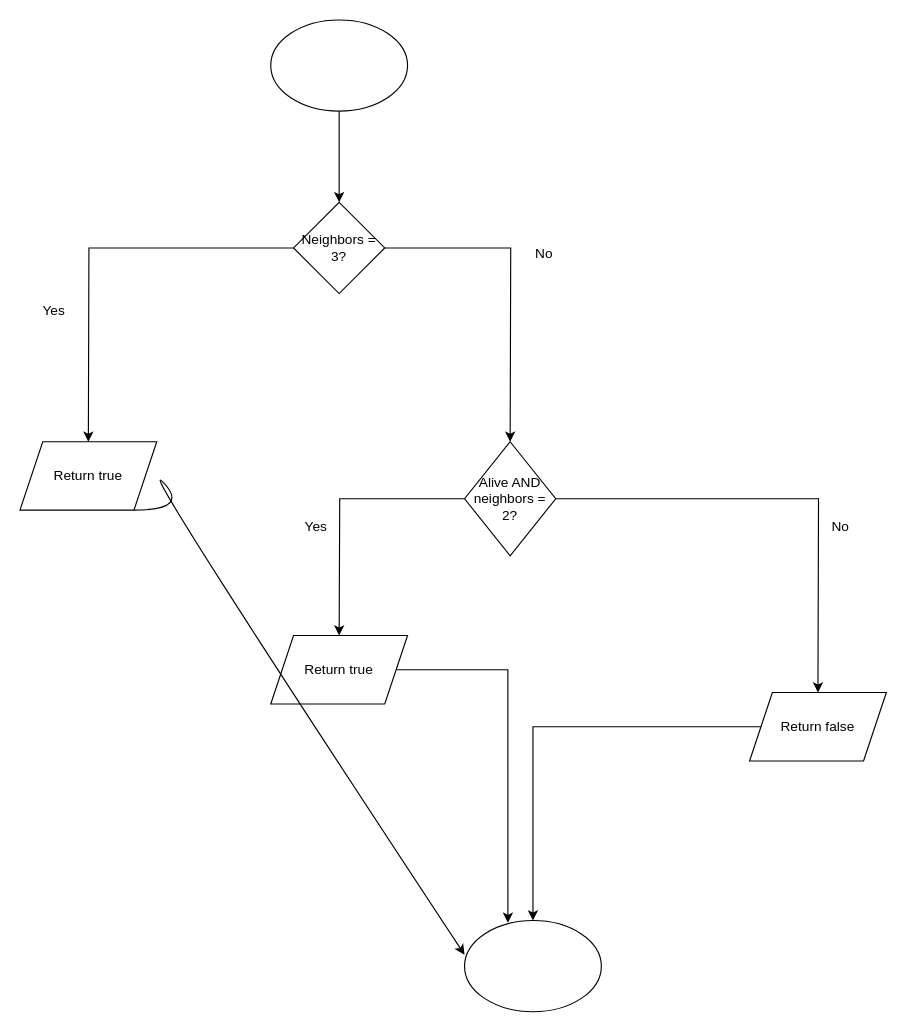
The diagram is 906 pixels wide and 1032 high, and some of its shapes have lost their labels. Each missing label, with the centre of its shape:
"End" belongs at point (532, 965).
"Start" belongs at point (339, 65).
